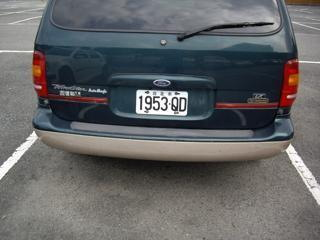plate: (134, 86, 189, 117)
